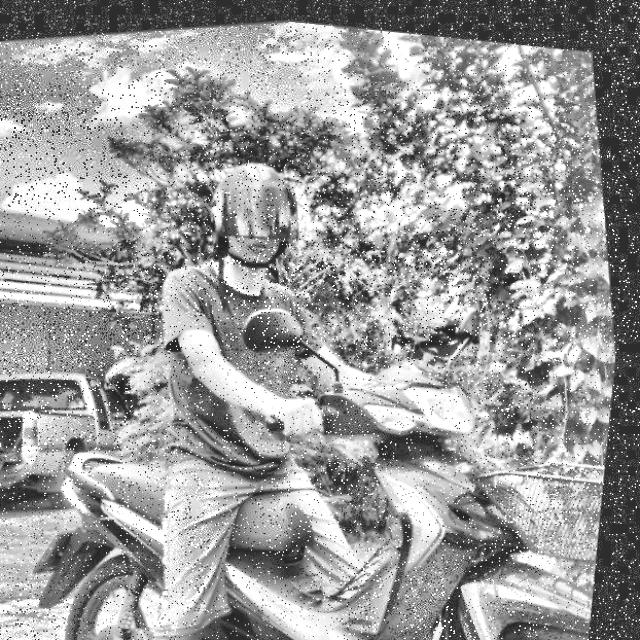Helmet: (200, 143, 319, 274)
